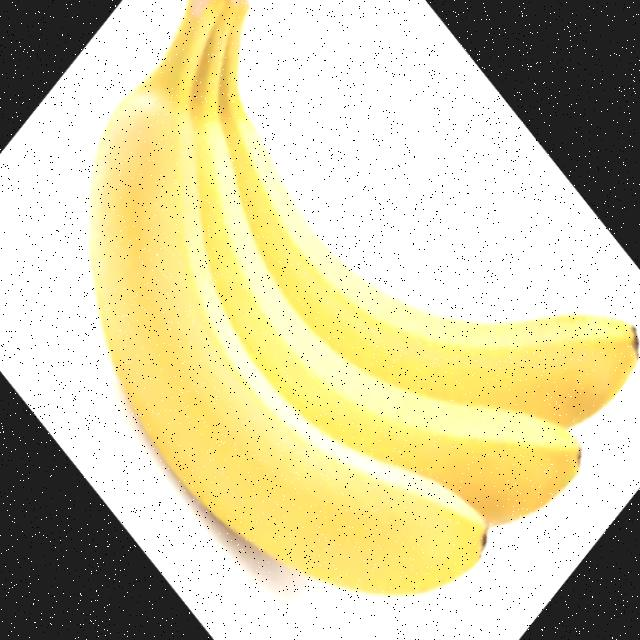god quality banana: (88, 3, 639, 595)
